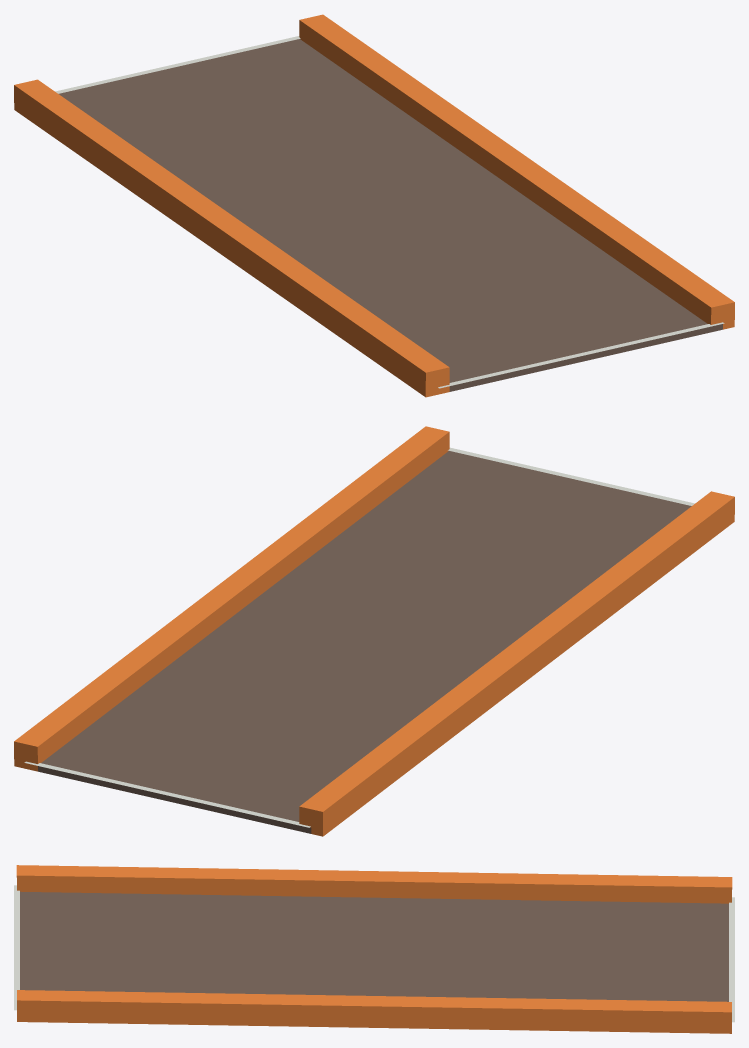
The model's file is SM_MP_Film_B_2_0.fbx.
The picture shows the model from 3 angles, top to bottom: view 1: azimuth 30°, elevation 25°; view 2: azimuth 150°, elevation 25°; view 3: azimuth 270°, elevation 25°; orthographic projection. The views are drawn at different scales.
Parts seen in each view (by area): view 1: SM_MP_Film_B_2_0; view 2: SM_MP_Film_B_2_0; view 3: SM_MP_Film_B_2_0.
Boxes of the visible parts, x1,y1,x2,y2 form: SM_MP_Film_B_2_0: (14,14,734,397); SM_MP_Film_B_2_0: (14,426,734,836); SM_MP_Film_B_2_0: (14,865,734,1033).
Size of what is drawn, in the model's own units: 260 by 605 by 34.99.
